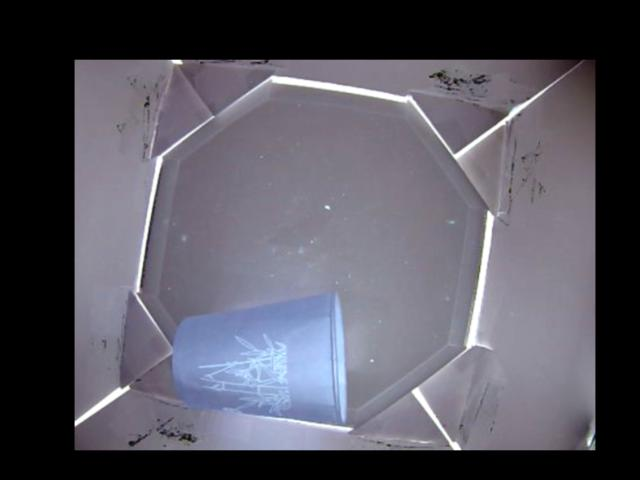Cup: (172, 293, 348, 423)
